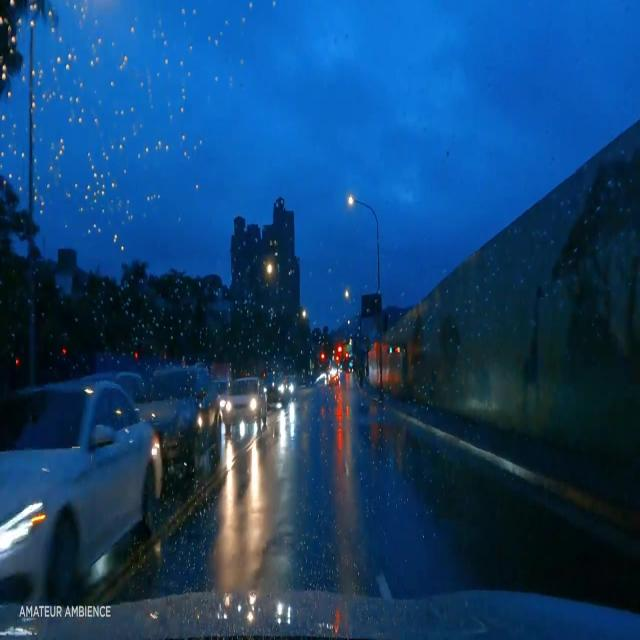Car: (0, 383, 156, 595), (150, 364, 221, 474), (221, 380, 266, 422)
